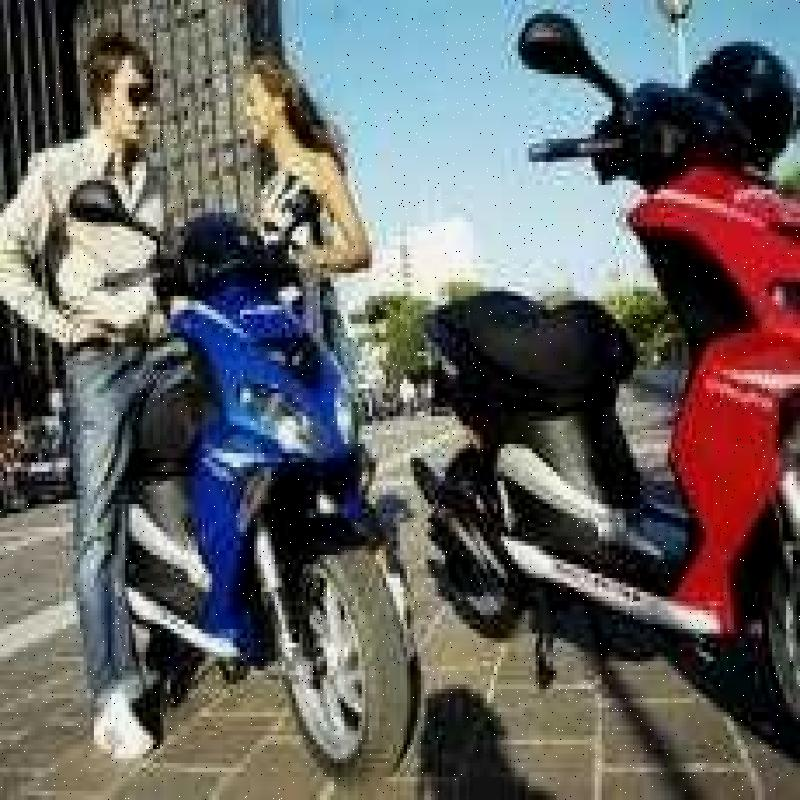bike: (368, 32, 800, 786), (96, 178, 426, 772)
